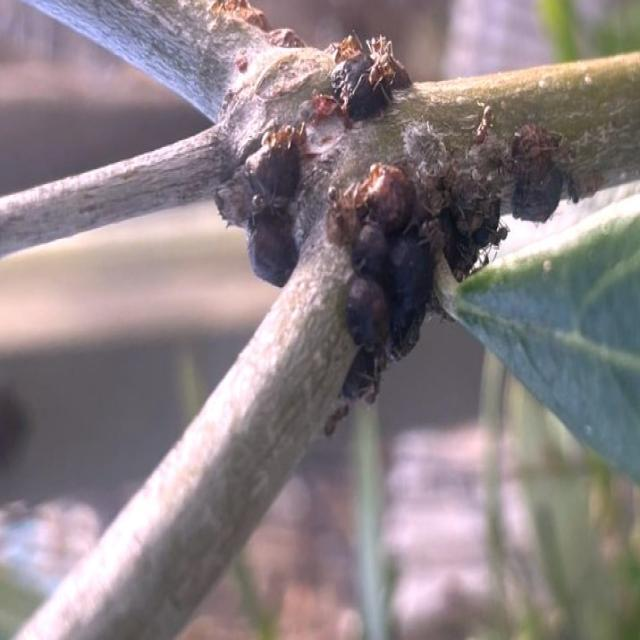BlackScale: (329, 125, 564, 398), (216, 121, 306, 286), (331, 32, 394, 112)
